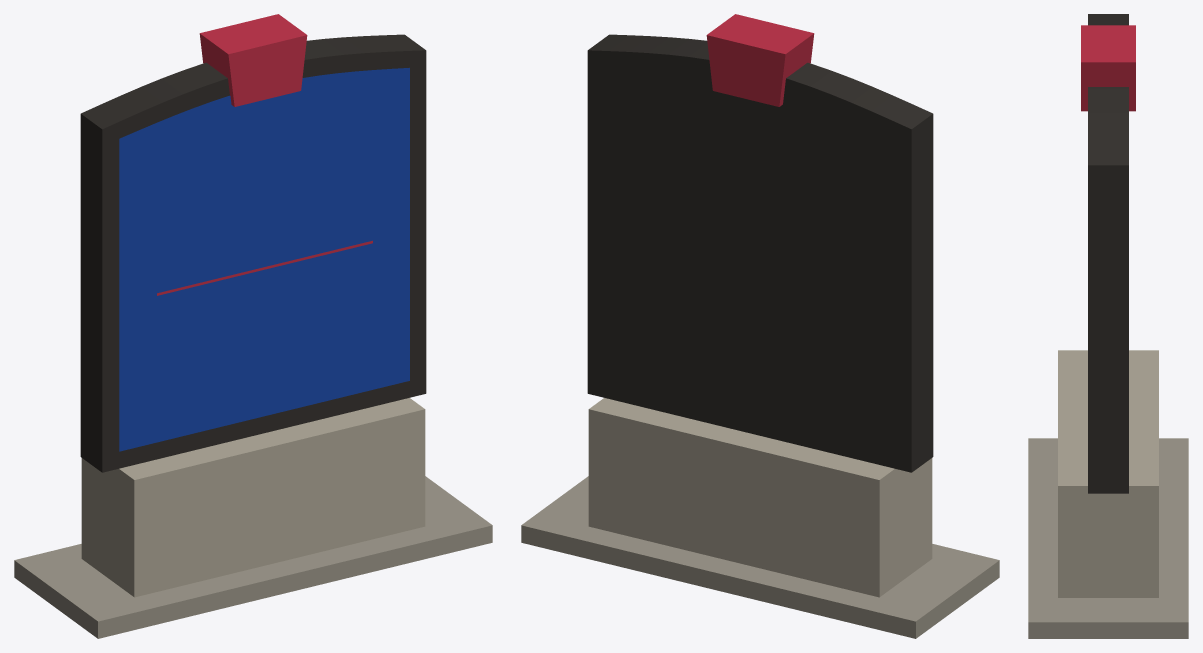
The model's file is ku_sign.glb.
3 views of the same model, side by side, from view 1: azimuth 30°, elevation 25°; view 2: azimuth 150°, elevation 25°; view 3: azimuth 270°, elevation 25° (orthographic). The views are drawn at different scales.
Visible parts, largest first — view 1: KU Sign; view 2: KU Sign; view 3: KU Sign.
Boxes of the visible parts, <box> form: KU Sign: <box>14,14,492,638</box>; KU Sign: <box>521,14,999,638</box>; KU Sign: <box>1028,14,1188,638</box>.
Size of the model in its own units: 1.9 by 2.42 by 0.7.
